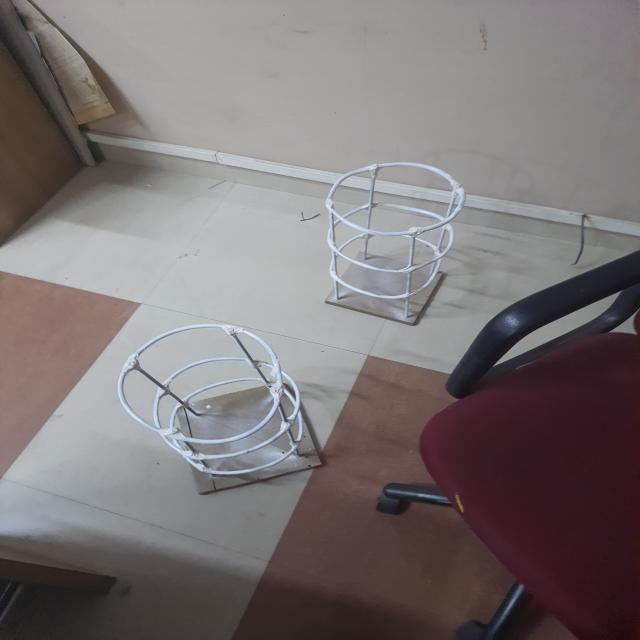silo: (113, 324, 332, 482), (299, 151, 467, 327)
